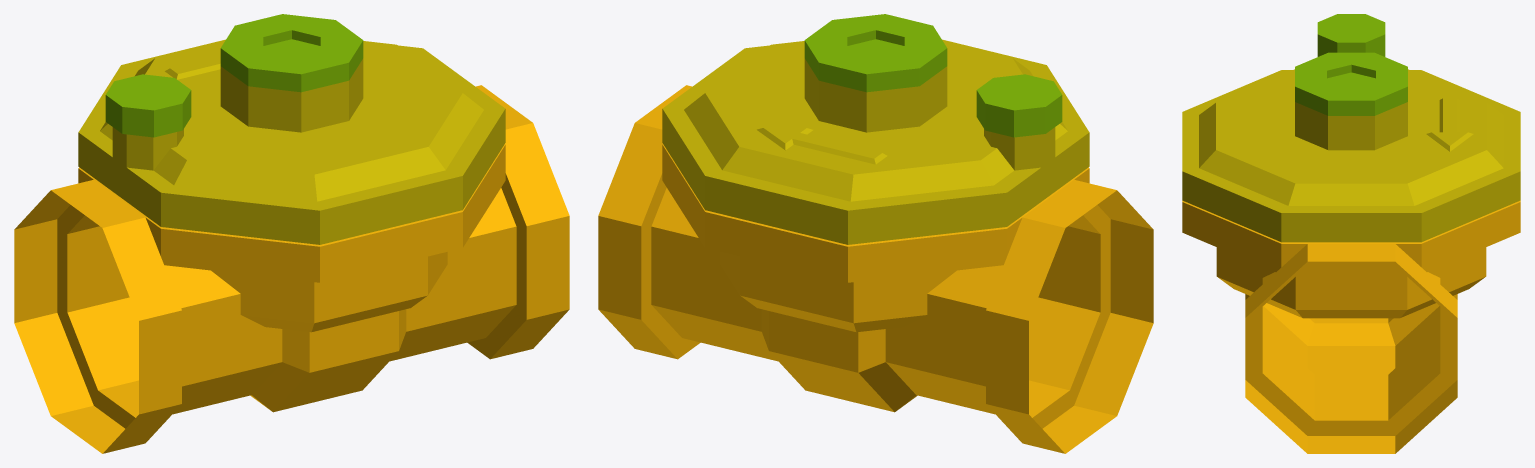
Rendered from fpe_back_pressure_regulator.dae.
The picture shows the model from 3 angles, left to right: view 1: azimuth 30°, elevation 25°; view 2: azimuth 150°, elevation 25°; view 3: azimuth 270°, elevation 25°; orthographic projection. The views are drawn at different scales.
Parts seen in each view (by area): view 1: back_pressure_regulator_alt; view 2: back_pressure_regulator_alt; view 3: back_pressure_regulator_alt.
Boxes of the visible parts, x1=… form: back_pressure_regulator_alt: x1=14, y1=14, x2=569, y2=453; back_pressure_regulator_alt: x1=598, y1=14, x2=1153, y2=453; back_pressure_regulator_alt: x1=1182, y1=14, x2=1520, y2=453.
Bounding box in the file's own units: 0.25 × 0.2 × 0.1877.
